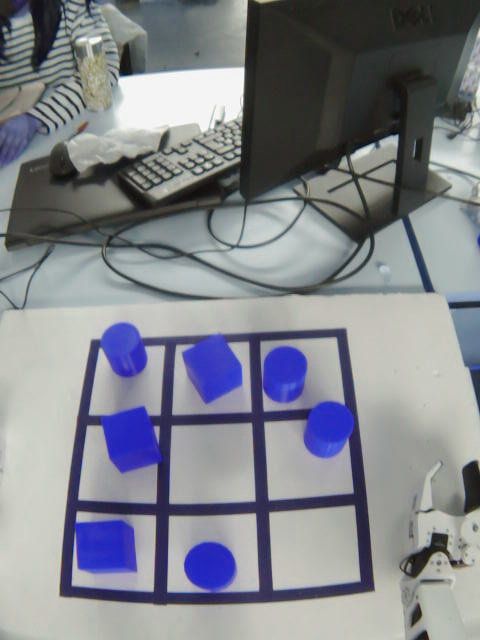cube: (175, 328, 251, 408), (95, 401, 171, 480), (67, 510, 146, 586)
cylinder: (173, 532, 248, 599), (298, 394, 361, 469), (91, 316, 158, 381), (258, 341, 313, 409)
empty: (263, 502, 373, 596), (163, 416, 264, 512)
